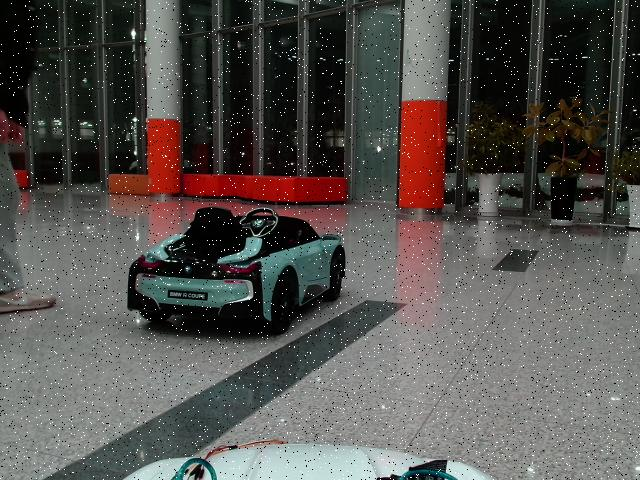car: (127, 207, 348, 337)
